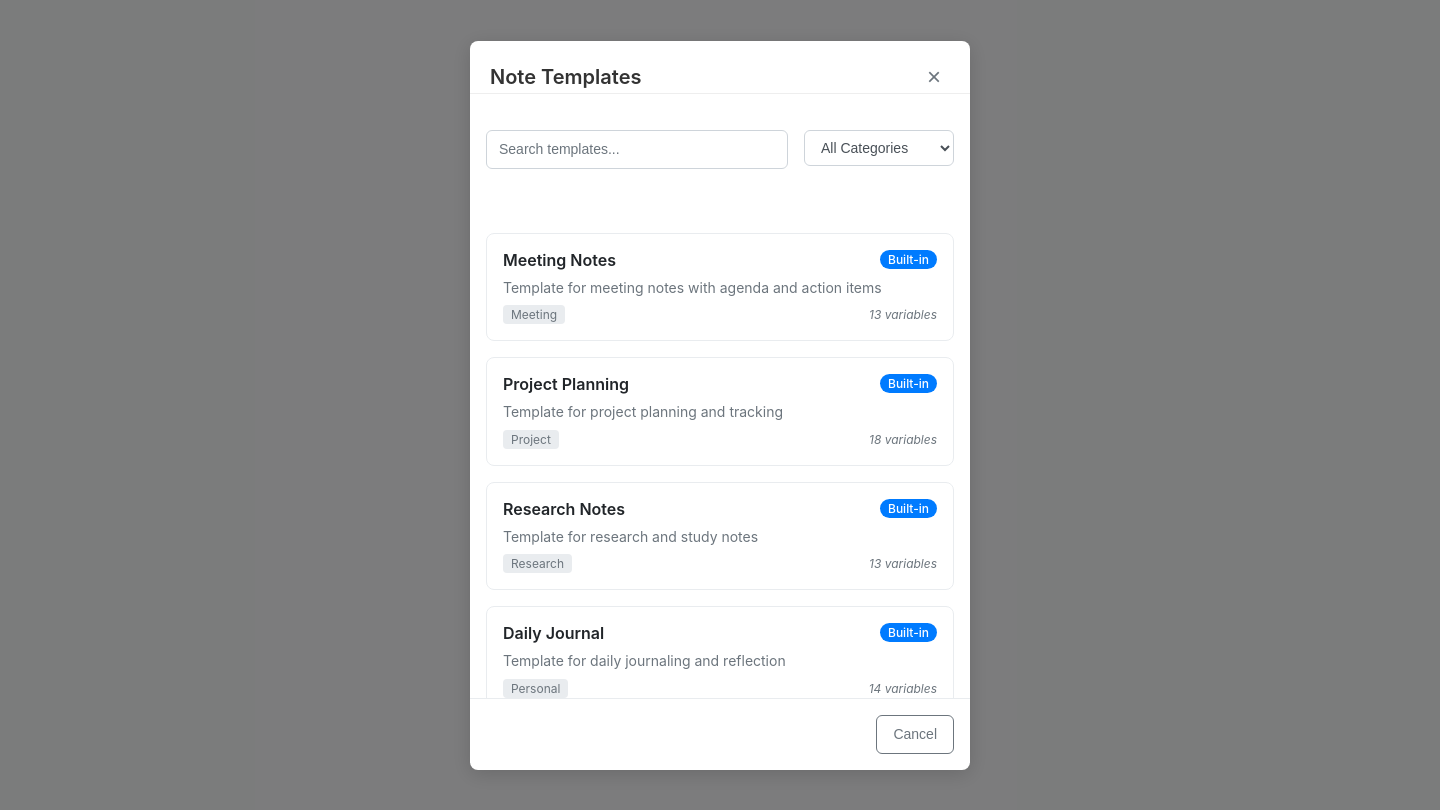
Test: NoteTemplates › goes back to template list when back button is clicked
Click the heading "Meeting Notes" at (560, 260), box [503,250,616,270]
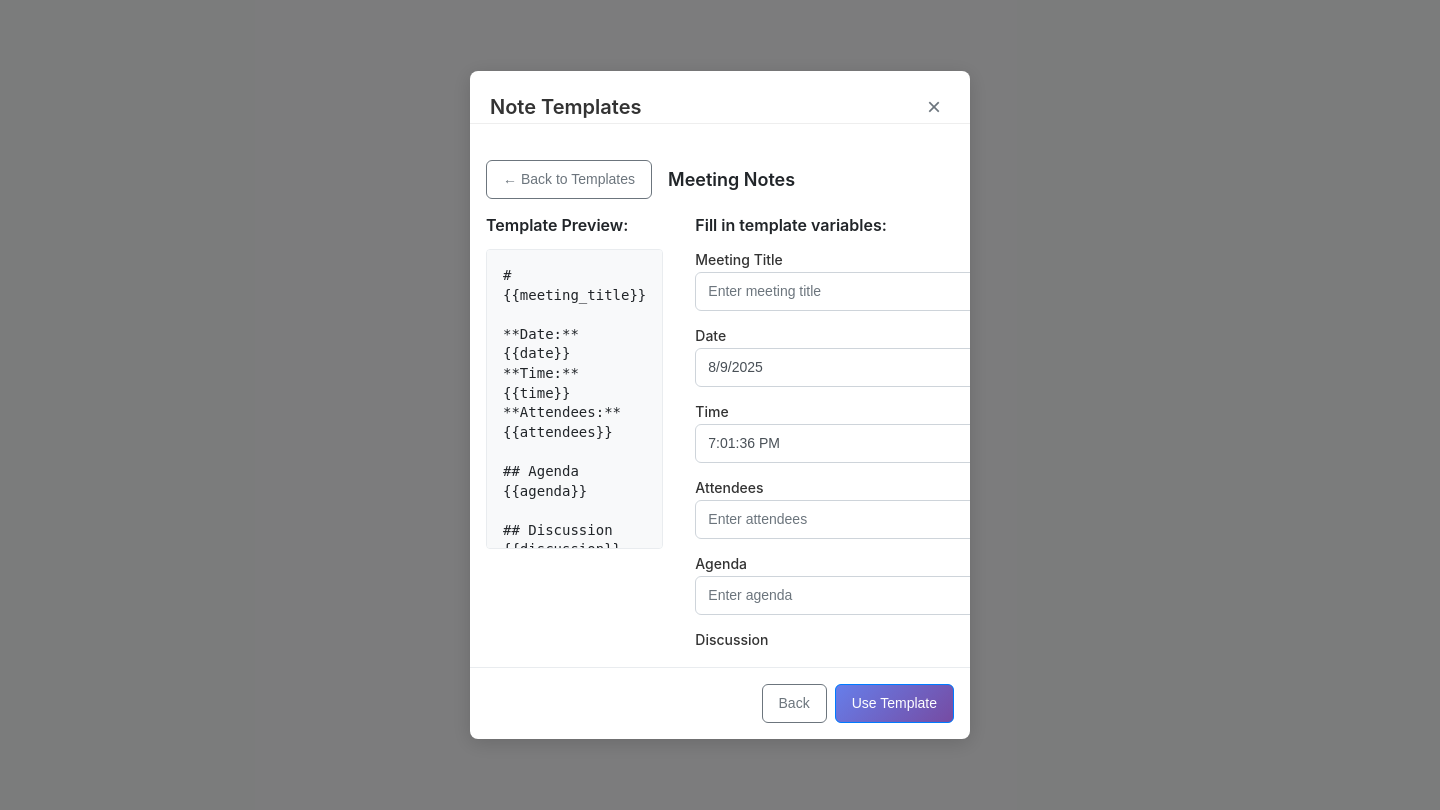
Click the button "← Back to Templates" at (569, 180), box [486,160,652,199]
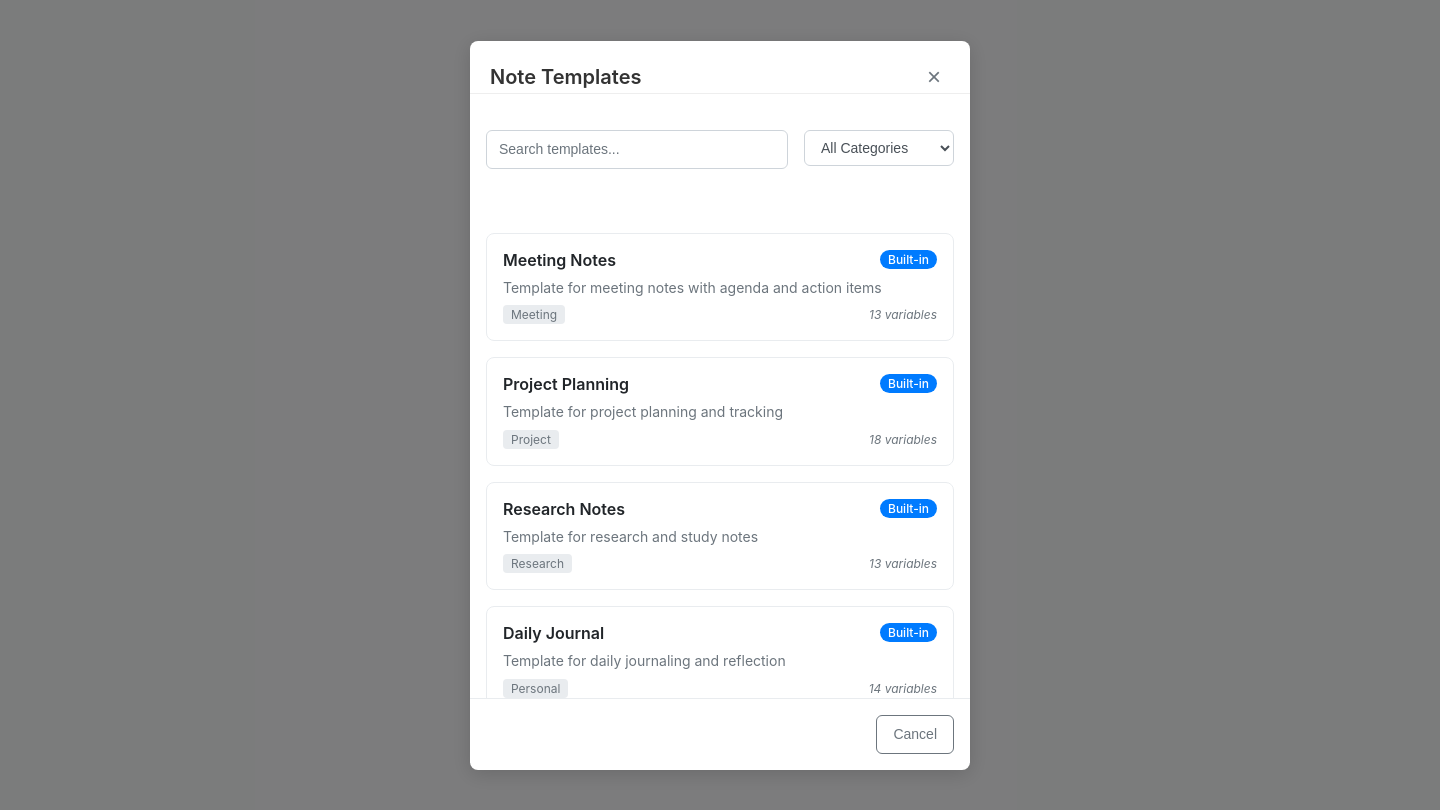
Expected: the heading "Meeting Notes" is shown, [503,250,616,270]
Expected: the heading "Template Preview:" is gone
